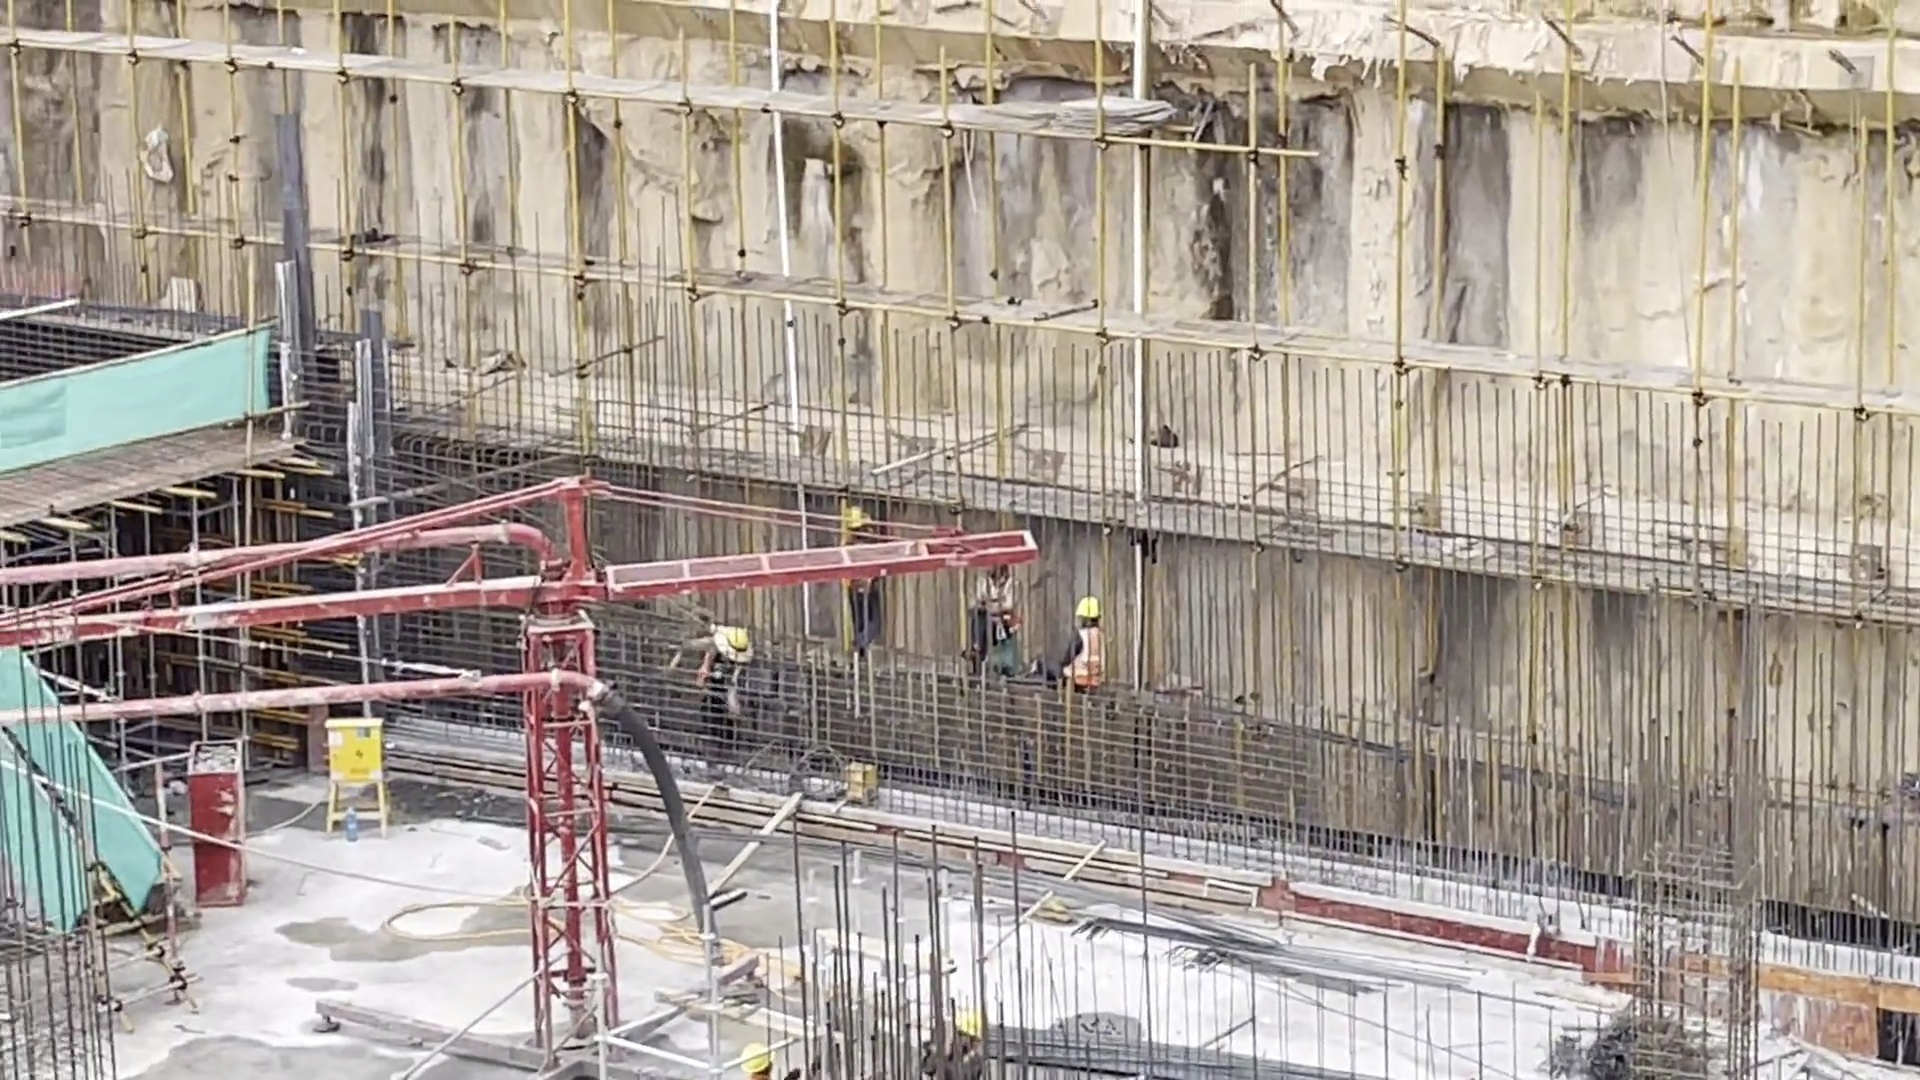ebox: (317, 719, 401, 797)
helmet: (742, 1032, 778, 1080), (1074, 590, 1114, 622), (722, 626, 758, 655), (840, 506, 877, 533)
person: (692, 619, 746, 775), (965, 561, 1025, 688), (1066, 585, 1122, 704), (923, 1011, 999, 1080)
vest: (1073, 630, 1112, 697)
